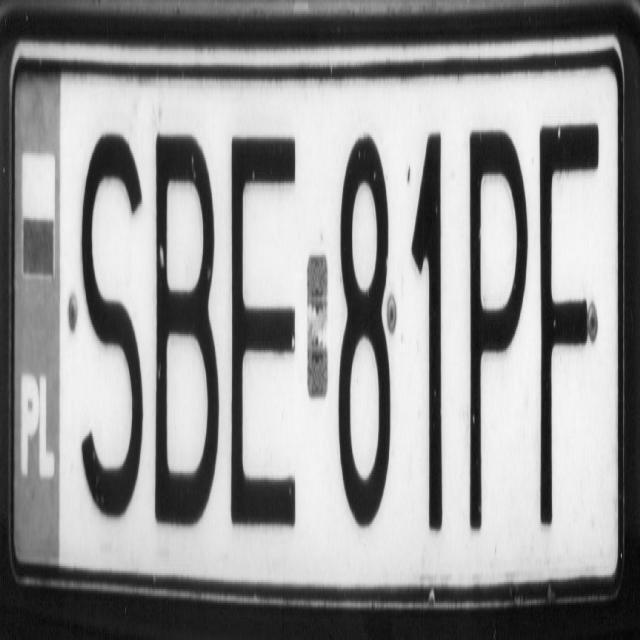License_Plate: (4, 42, 628, 594)
